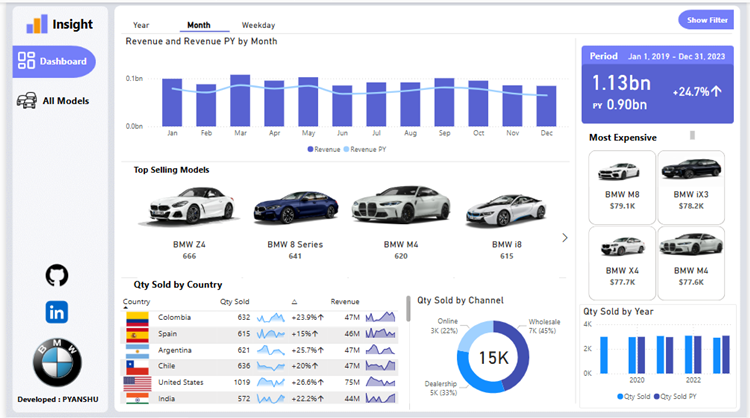

The dashboard page shown, as its layout file describes it:
{"tool":"powerbi","page":{"name":"Dashboard","canvas":[1280,720],"ordinal":0},"visuals":[{"type":"lineClusteredColumnComboChart","fields":{"Category":["Calendar.Month"],"Y":["New Measure.Revenue"],"Y2":["New Measure.Revenue PY"]},"box":[201.3,56.7,779.5,215.4],"z":0},{"type":"advancedSlicerVisual","fields":{"Values":["PeriodSlicer.PeriodSlicer"]},"box":[201.3,12.8,286.3,43.9],"z":1000},{"type":"card","fields":{"Values":["New Measure.Revenue"]},"box":[1002,99.2,120.5,70.9],"z":2000},{"type":"card","fields":{"Values":["New Measure.Revenue PY"]},"box":[1013.4,138.9,120.5,70.9],"z":3000},{"type":"textbox","box":[1009.1,164.4,48.2,35.4],"z":4000},{"type":"card","fields":{"Values":["New Measure.Revenue Variance % Arrow"]},"box":[1133.9,119.1,120.5,70.9],"z":5000},{"type":"card","fields":{"Values":["New Measure.Selected Period"]},"box":[1057.3,58.1,205.5,70.9],"z":6000},{"type":"advancedSlicerVisual","fields":{"Values":["dimModel.Model"]},"box":[201.4,290,780,231.4],"z":7000},{"type":"textbox","box":[1003.5,76.5,109.1,35.4],"z":8000},{"type":"textbox","box":[215.4,273.5,157.3,34],"z":9000},{"type":"advancedSlicerVisual","fields":{"Values":["dimModel.Model"]},"box":[982.2,250.9,287.7,270.7],"z":10000},{"type":"textbox","box":[1002,216.9,192.8,34],"z":11000},{"type":"clusteredColumnChart","title":"Qty Sold by Year","fields":{"Y":["New Measure.Qty Sold","New Measure.Qty Sold PY"],"Category":["Calendar.Year"]},"box":[990.7,521.6,272.1,180],"z":12000},{"type":"donutChart","fields":{"Y":["New Measure.Qty Sold"],"Category":["dimChannel.Channel"]},"box":[705.8,504.6,272.1,197],"z":13000},{"type":"card","fields":{"Values":["New Measure.Qty Sold"]},"box":[805,583.9,73.7,55.3],"z":14000},{"type":"tableEx","fields":{"Values":["dimCountry.Flag","dimCountry.Country","New Measure.Qty Sold","New Measure.Qty Sold Sparkline","New Measure.Qty Sold Variance % Arrow","New Measure.Revenue","New Measure.Revenue Sparkline"]},"box":[191.3,500.3,514.5,198.4],"z":15000},{"type":"textbox","box":[215.4,470.6,192.8,34],"z":16000},{"type":"textbox","box":[52.4,85,154.5,42.5],"z":17000},{"type":"image","box":[11.3,78,46.8,45.4],"z":18000},{"type":"textbox","box":[58.1,153.1,154.5,42.5],"z":19000},{"type":"image","box":[11.3,147.4,48.2,43.9],"z":20000},{"type":"actionButton","box":[0,147.4,168.7,39.7],"z":21000},{"type":"actionButton","box":[1162.2,9.9,100.6,39.7],"z":23000},{"type":"image","box":[39.7,572.6,96.4,97.8],"z":24000},{"type":"textbox","box":[75.1,17,154.5,42.5],"z":25000},{"type":"image","box":[28.3,9.9,49.6,49.6],"z":26000},{"type":"image","box":[49,504.5,77.4,60.6],"z":27000},{"type":"image","box":[63.2,438.7,49,65.8],"z":28000},{"type":"textbox","box":[14.2,671,193.5,42.6],"z":29000}]}

Visuals, with their boxes on the page's 1280x720 design canvas (x1, y1, x2, y2). These are canvas units, not pixel positions in the 750x418 screenshot, which may show the page scaled, cropped or inside an application window:
lineClusteredColumnComboChart - Calendar.Month x New Measure.Revenue: <bbox>201, 57, 981, 272</bbox>
advancedSlicerVisual - PeriodSlicer.PeriodSlicer: <bbox>201, 13, 488, 57</bbox>
card - New Measure.Revenue: <bbox>1002, 99, 1122, 170</bbox>
card - New Measure.Revenue PY: <bbox>1013, 139, 1134, 210</bbox>
textbox: <bbox>1009, 164, 1057, 200</bbox>
card - New Measure.Revenue Variance % Arrow: <bbox>1134, 119, 1254, 190</bbox>
card - New Measure.Selected Period: <bbox>1057, 58, 1263, 129</bbox>
advancedSlicerVisual - dimModel.Model: <bbox>201, 290, 981, 521</bbox>
textbox: <bbox>1004, 76, 1113, 112</bbox>
textbox: <bbox>215, 274, 373, 308</bbox>
advancedSlicerVisual - dimModel.Model: <bbox>982, 251, 1270, 522</bbox>
textbox: <bbox>1002, 217, 1195, 251</bbox>
"Qty Sold by Year" clusteredColumnChart: <bbox>991, 522, 1263, 702</bbox>
donutChart - New Measure.Qty Sold x dimChannel.Channel: <bbox>706, 505, 978, 702</bbox>
card - New Measure.Qty Sold: <bbox>805, 584, 879, 639</bbox>
tableEx - dimCountry.Flag x dimCountry.Country: <bbox>191, 500, 706, 699</bbox>
textbox: <bbox>215, 471, 408, 505</bbox>
textbox: <bbox>52, 85, 207, 128</bbox>
image: <bbox>11, 78, 58, 123</bbox>
textbox: <bbox>58, 153, 213, 196</bbox>
image: <bbox>11, 147, 60, 191</bbox>
actionButton: <bbox>0, 147, 169, 187</bbox>
actionButton: <bbox>1162, 10, 1263, 50</bbox>
image: <bbox>40, 573, 136, 670</bbox>
textbox: <bbox>75, 17, 230, 60</bbox>
image: <bbox>28, 10, 78, 60</bbox>
image: <bbox>49, 504, 126, 565</bbox>
image: <bbox>63, 439, 112, 504</bbox>
textbox: <bbox>14, 671, 208, 714</bbox>
